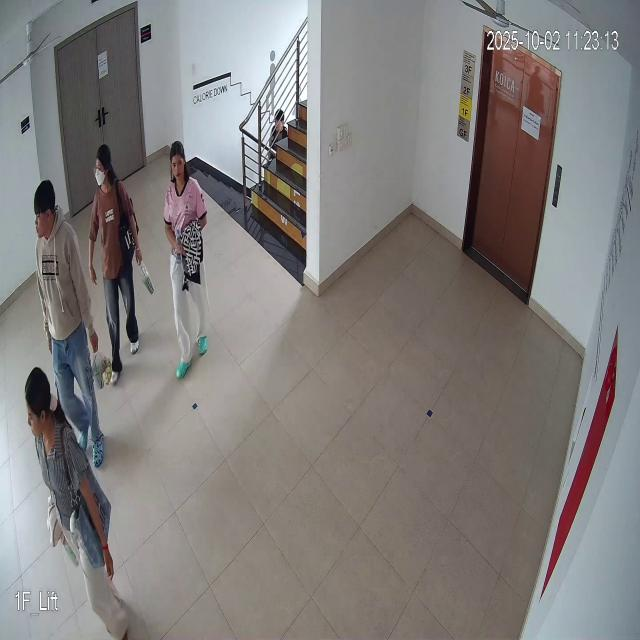face: (169, 136, 187, 192)
